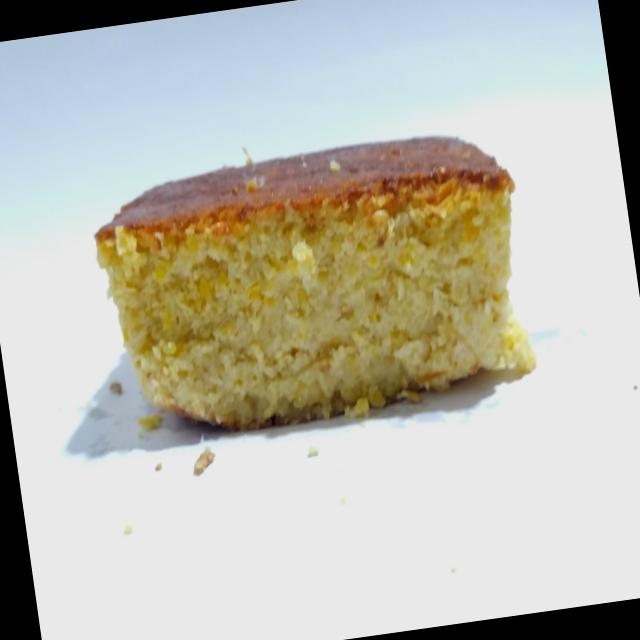Chipa_Guazu: (76, 110, 553, 467)
